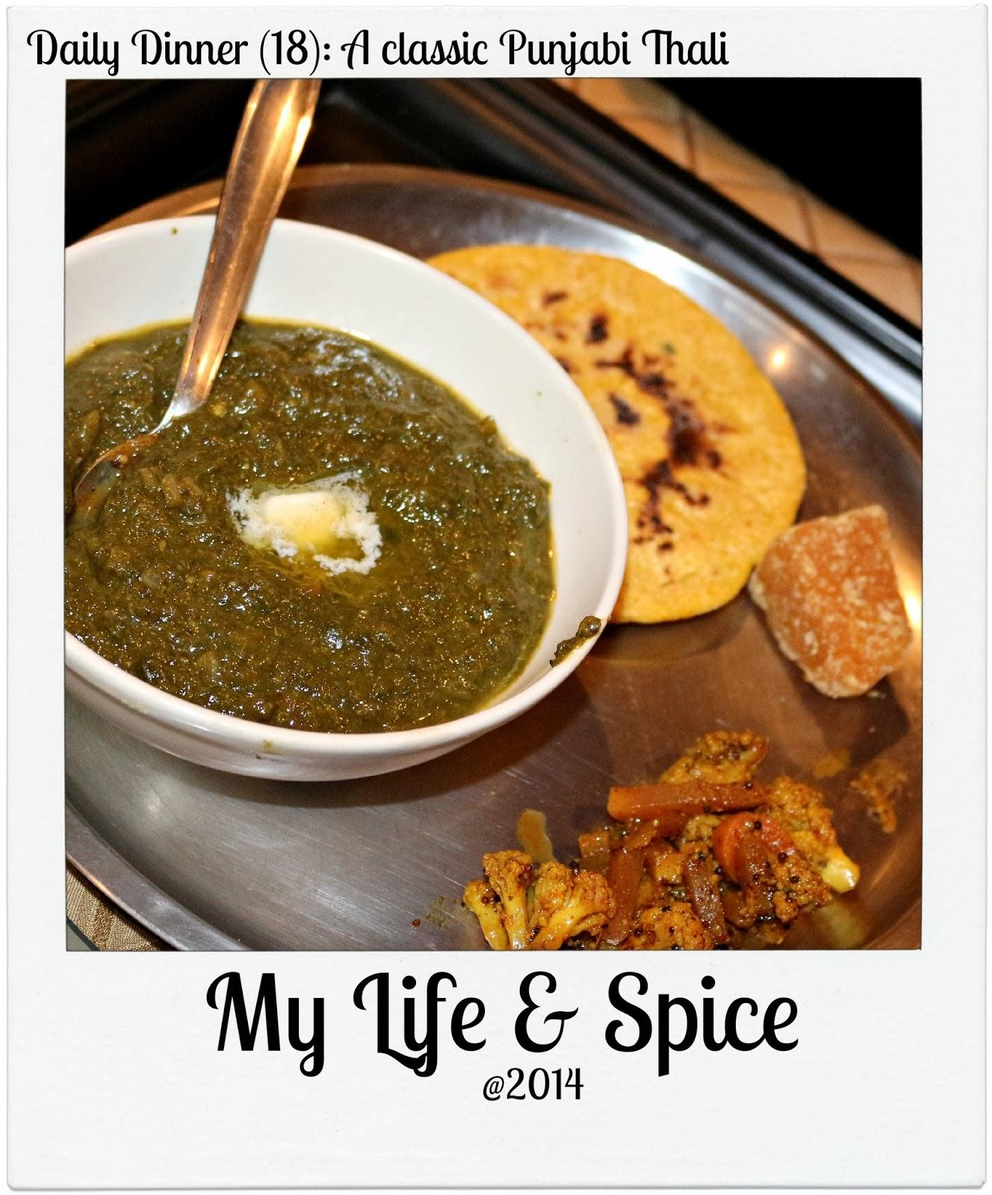saag: (57, 324, 551, 741)
